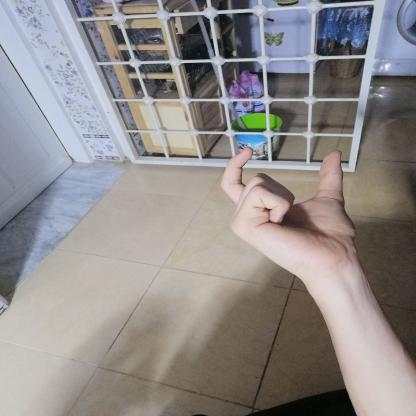NOON: (202, 134, 371, 287)
